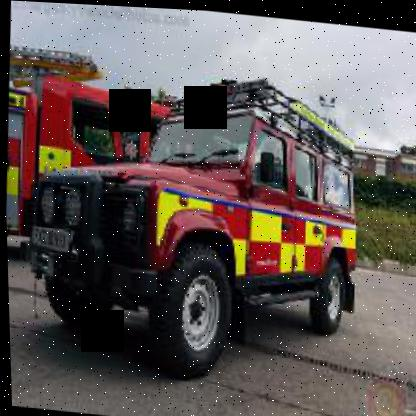emergency: (15, 47, 373, 394), (1, 30, 205, 284)
